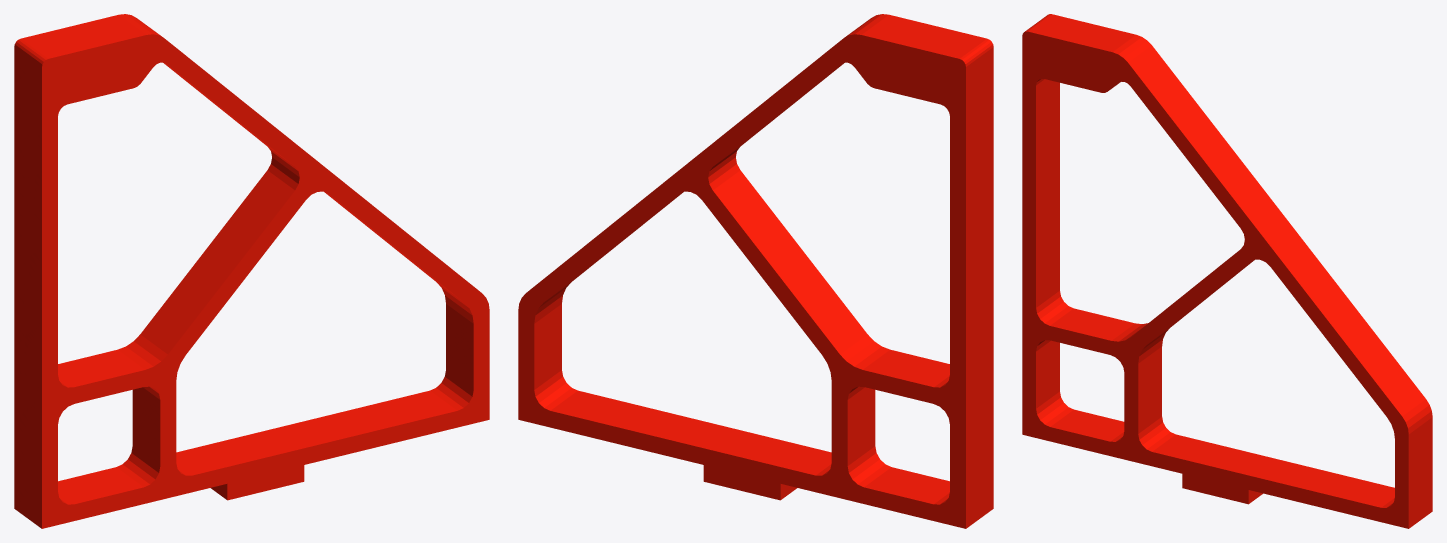
File: triangle_frame.glb
3 views of the same model, side by side, from view 1: azimuth 30°, elevation 25°; view 2: azimuth 150°, elevation 25°; view 3: azimuth 330°, elevation 25° (orthographic). The views are drawn at different scales.
Parts seen in each view (by area): view 1: support frame solid; view 2: support frame solid; view 3: support frame solid.
Boxes of the visible parts, box(x1,y1,x2,y2) form: support frame solid: box(14, 14, 489, 528); support frame solid: box(518, 14, 993, 528); support frame solid: box(1022, 14, 1432, 528).
Size of the model in its own units: 1.47 by 1.52 by 0.1573.
